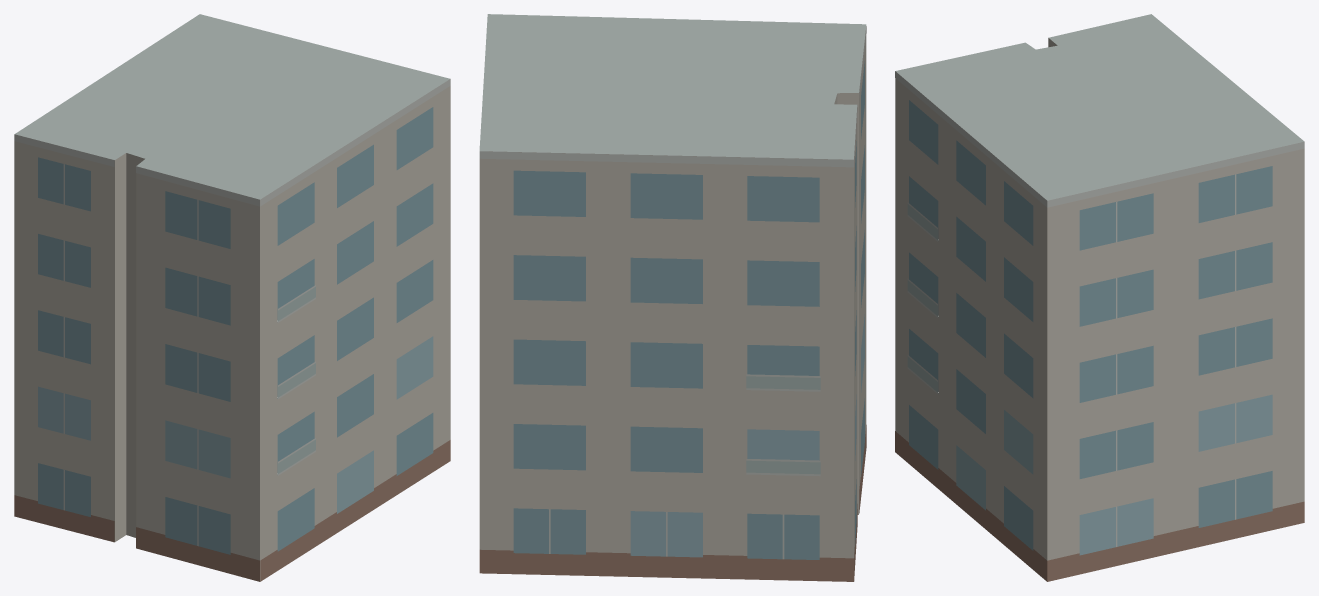
Rendered from survey-upis-32861420.glb.
The picture shows the model from 3 angles, left to right: view 1: azimuth 30°, elevation 25°; view 2: azimuth 150°, elevation 25°; view 3: azimuth 270°, elevation 25°; orthographic projection. The views are drawn at different scales.
Visible parts, largest first — view 1: survey-upis-32861420.tmp; view 2: survey-upis-32861420.tmp; view 3: survey-upis-32861420.tmp.
Part boxes in pixels (bbox=[...]): survey-upis-32861420.tmp: bbox=[14, 14, 450, 581]; survey-upis-32861420.tmp: bbox=[479, 14, 866, 581]; survey-upis-32861420.tmp: bbox=[895, 14, 1304, 581].
Size of the model in its own units: 14.2 by 13.5 by 13.16.
